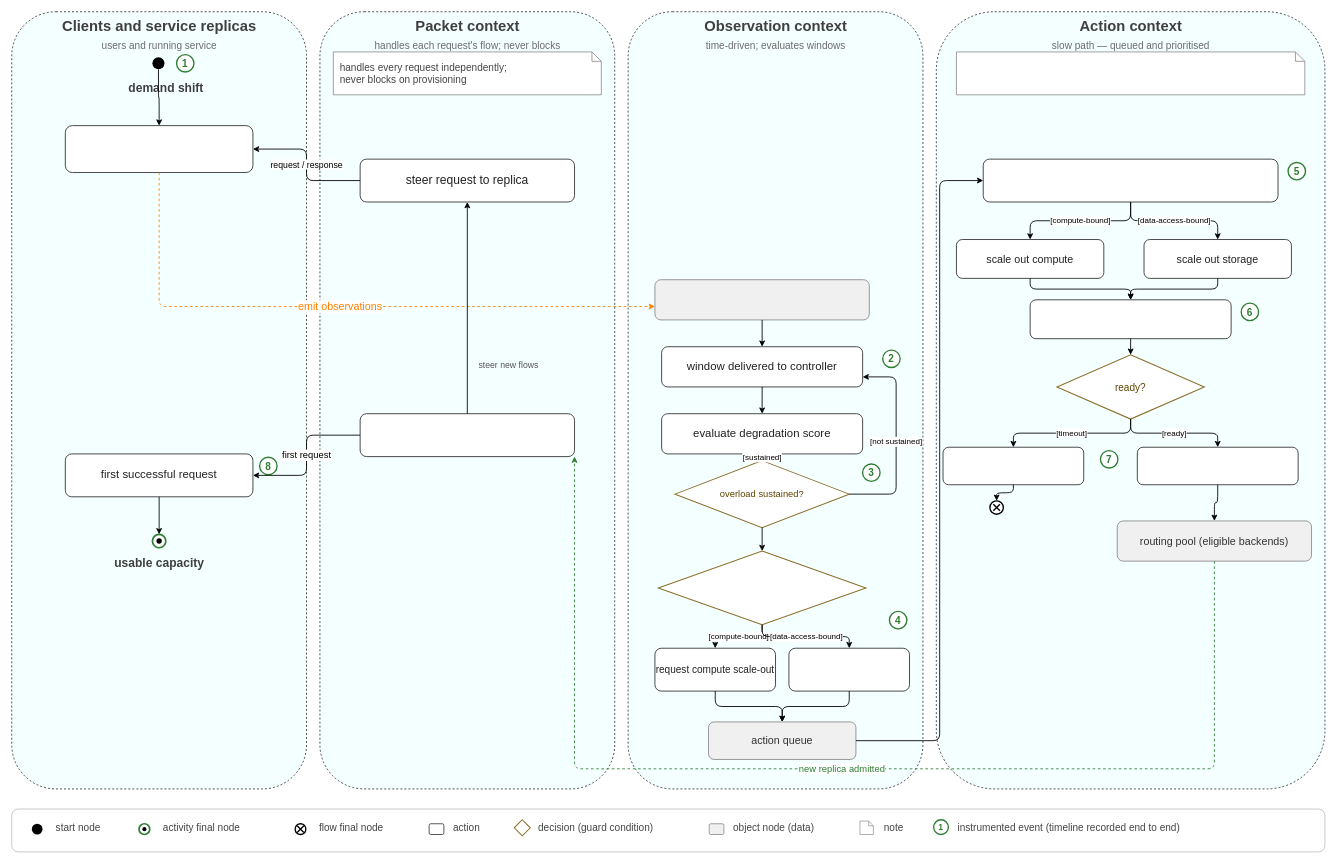
This 1337x864 diagram has some shape labels left out. The shapes that lost their labels are listed below. From the top down, each one's centre as x and y in pixels, then its label:
(x=1130, y=73): runs mutations in its own context; detection is never blocked by execution
(x=159, y=149): replicas serve requests
(x=1130, y=180): execute action request
(x=761, y=299): windowed summary
(x=1130, y=319): wait until ready
(x=467, y=435): new packet routed to the new replica
(x=1013, y=465): abandon unit
(x=1217, y=465): admit to routing pool
(x=761, y=587): which tier is the bottleneck?
(x=849, y=669): request storage scale-out
